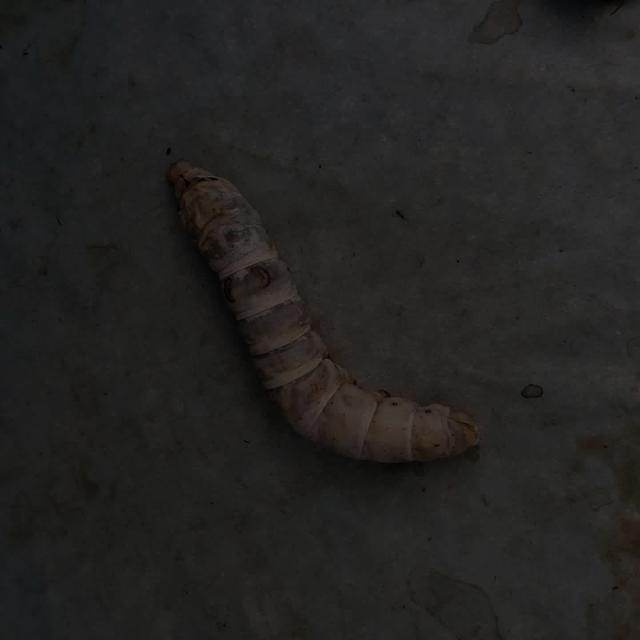Grasserie: (161, 153, 488, 474)
